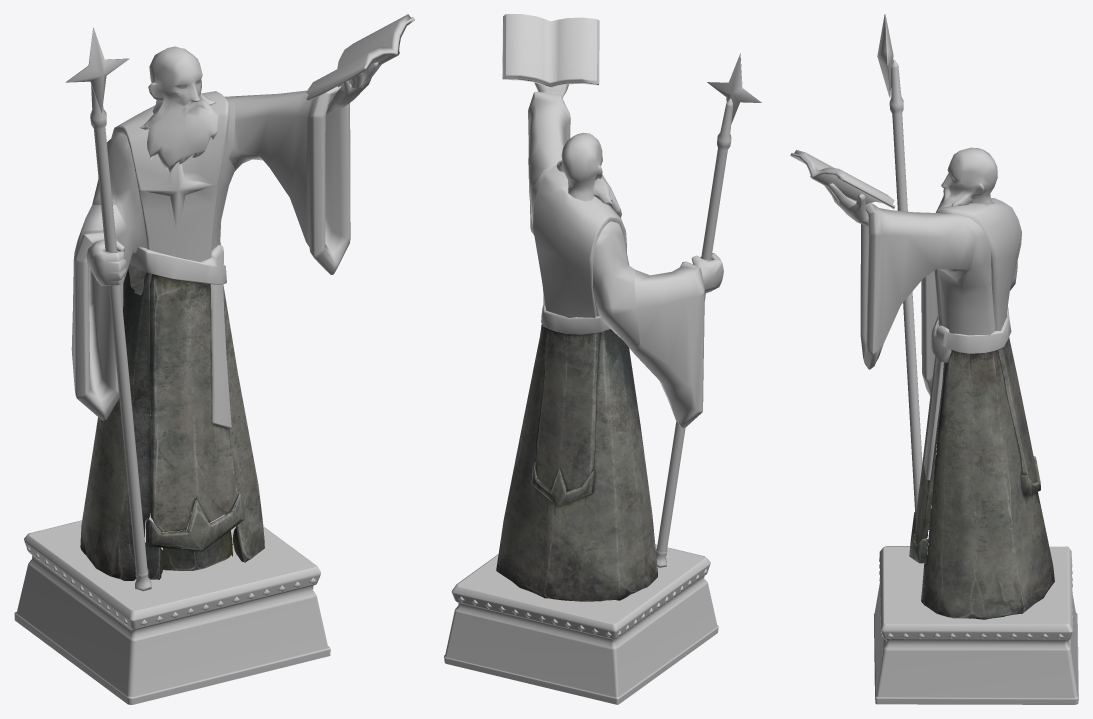
3 views of the same model, side by side, from view 1: azimuth 30°, elevation 25°; view 2: azimuth 150°, elevation 25°; view 3: azimuth 270°, elevation 25° (orthographic). The views are drawn at different scales.
Parts seen in each view (by area): view 1: SM_SaradominTemple_Statue_01_v1_LOD0; view 2: SM_SaradominTemple_Statue_01_v1_LOD0; view 3: SM_SaradominTemple_Statue_01_v1_LOD0.
Part boxes in pixels (x1,y1,x2,y2): SM_SaradominTemple_Statue_01_v1_LOD0: [14, 14, 414, 704]; SM_SaradominTemple_Statue_01_v1_LOD0: [444, 14, 761, 704]; SM_SaradominTemple_Statue_01_v1_LOD0: [790, 14, 1078, 704].
Size of the model in its own units: 8.22 by 16.5 by 7.29.
